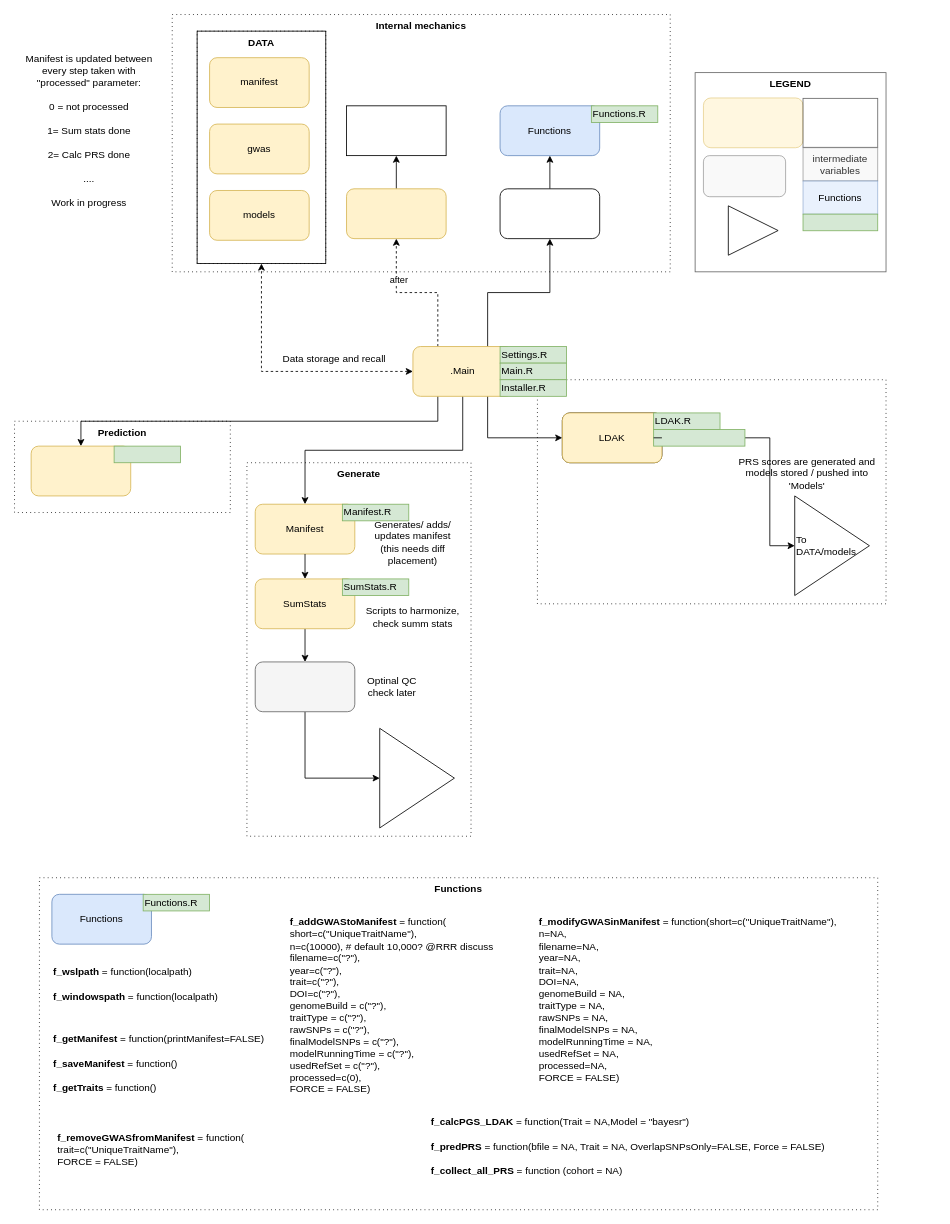
This 950x1224 diagram has some shape labels left out. Here are the shapes that lost their labels. From the top down, the box of each, then its label:
(346, 105, 446, 156): Figures and tables
(703, 97, 803, 148): Process ( exact folder name)
(802, 98, 878, 147): Output variable (exact path and name)
(703, 155, 786, 197): Optional / not used now / planned
(346, 188, 446, 239): .Manuscript
(499, 188, 600, 239): .Main/Settings.R (recalled beginning every step)
(727, 205, 778, 255): Output
(802, 213, 878, 231): Script name
(113, 445, 181, 463): Predict.R
(653, 429, 745, 446): Cal_Ref_1000G.R
(30, 445, 131, 496): Predict
(537, 379, 886, 604): Calculation
(254, 661, 355, 712): QC
(379, 727, 454, 828): To DATA/ manifest & gwas
